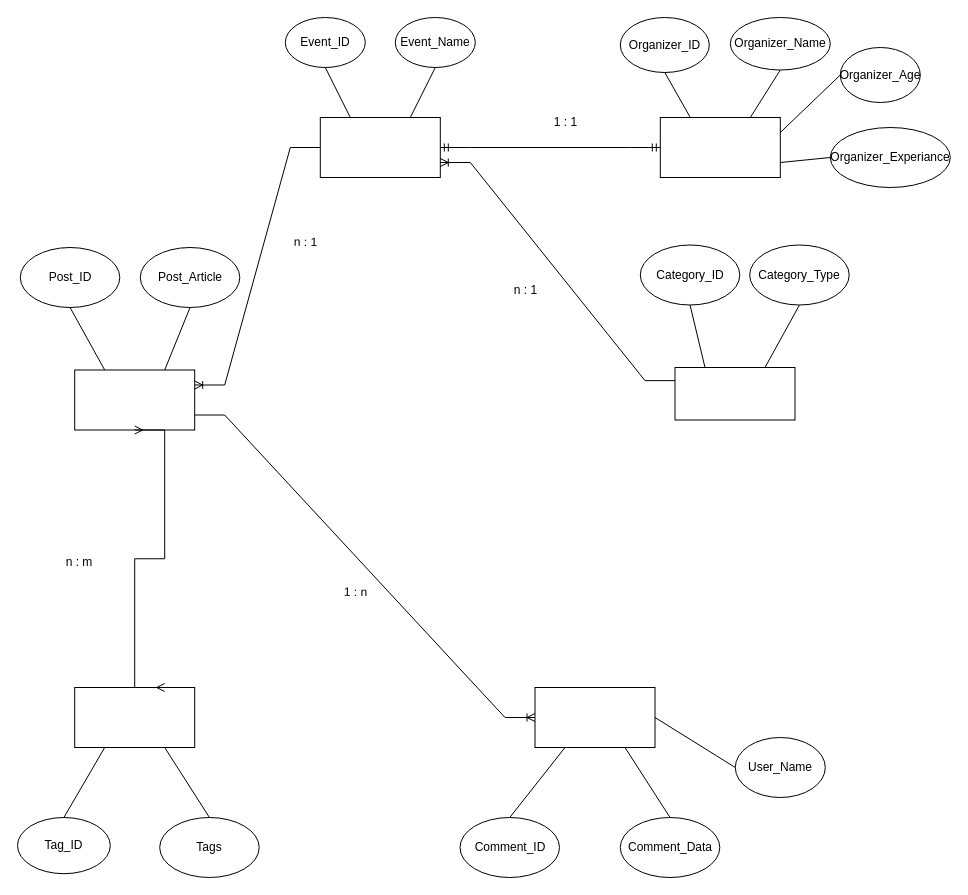
This 968x895 diagram has some shape labels left out. Each missing label, with the box of its shape:
Category: (674, 366, 795, 420)
Comment: (534, 686, 655, 748)
Event: (319, 116, 440, 178)
Organizer: (659, 116, 780, 178)
Post: (74, 369, 195, 430)
Tag: (74, 686, 195, 748)
